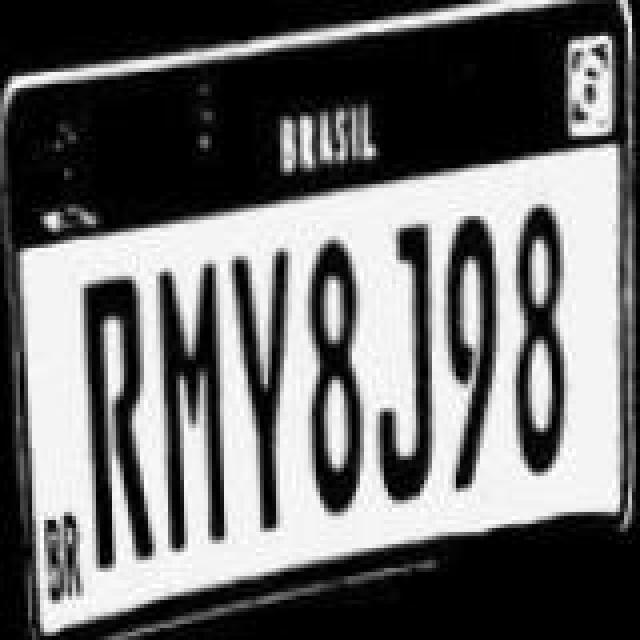8: (504, 200, 580, 472), (292, 232, 364, 516)
9: (430, 210, 506, 494)
J: (358, 216, 442, 512)
M: (146, 252, 230, 552)
R: (78, 272, 158, 576)
Y: (224, 238, 296, 530)
